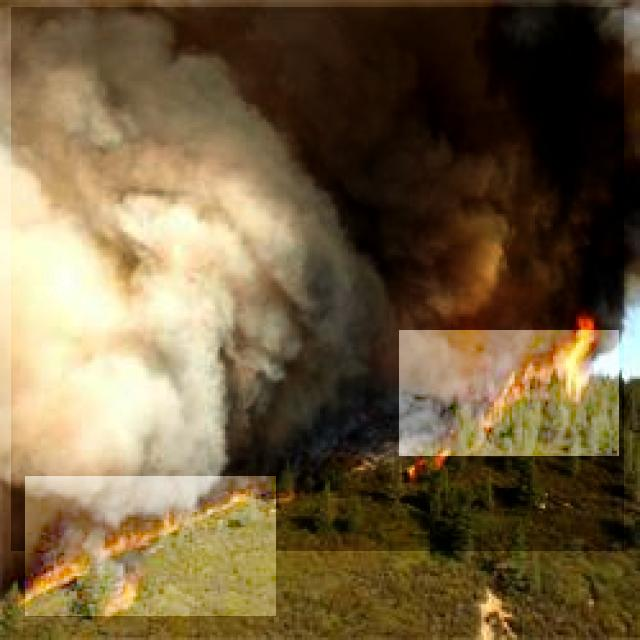Fire: (25, 476, 276, 616), (399, 330, 619, 456)
Smoke: (11, 8, 624, 552)
